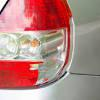Taillight-Damage: (0, 0, 97, 99)
